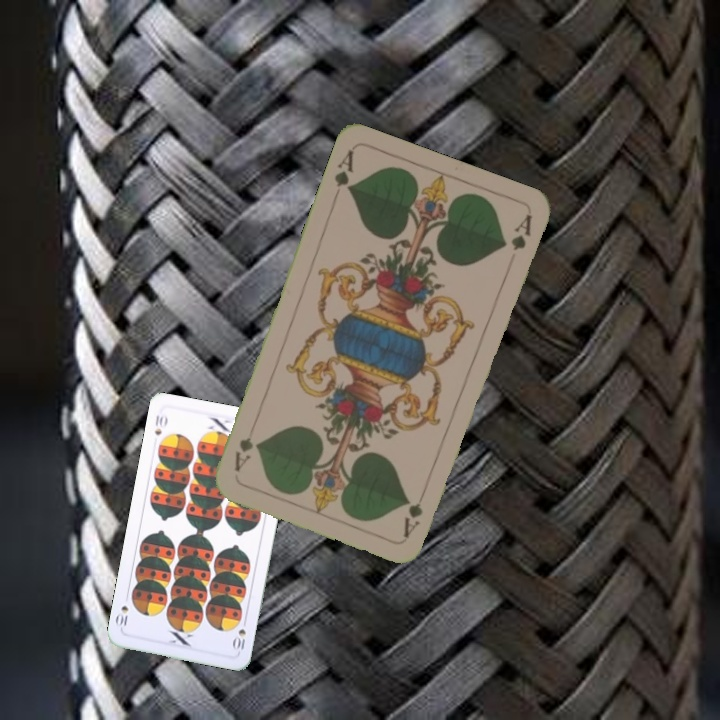GA: (330, 146, 357, 196), (399, 498, 426, 540)
S10: (150, 410, 170, 438), (230, 624, 248, 655)
